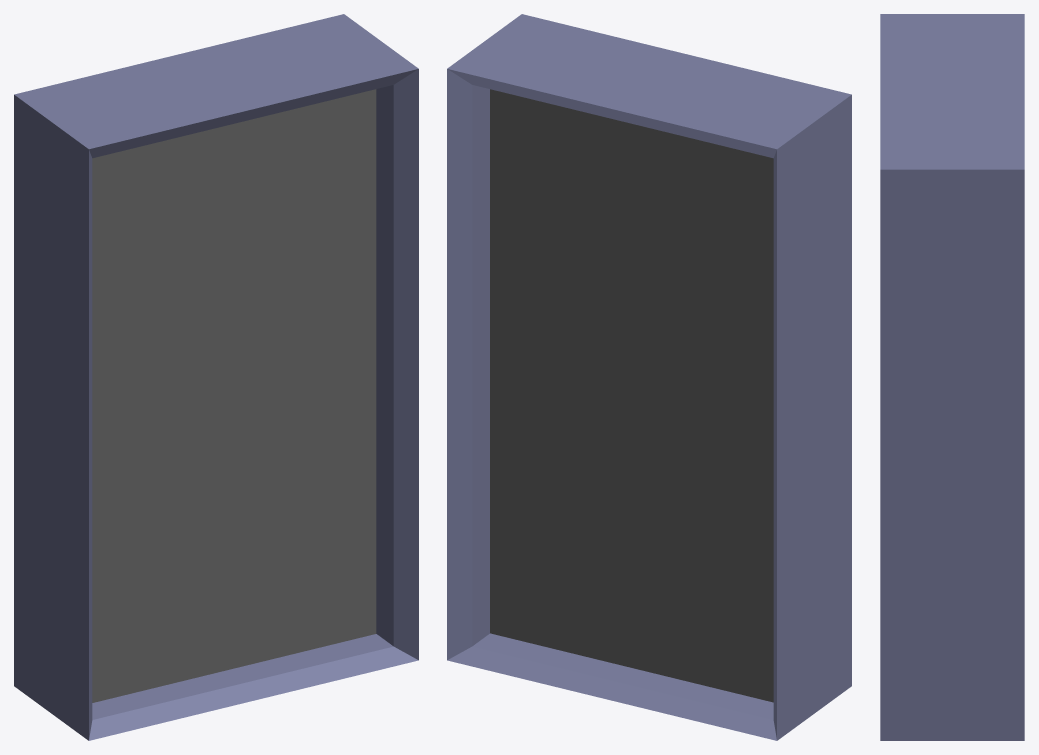
File: smalldoor.fbx
3 renders of one model, left to right at view 1: azimuth 30°, elevation 25°; view 2: azimuth 150°, elevation 25°; view 3: azimuth 270°, elevation 25°, orthographic. The views are drawn at different scales.
Parts seen in each view (by area): view 1: pCube65, pCube66; view 2: pCube65, pCube66; view 3: pCube66.
Part boxes in pixels (<box>): pCube65: <box>92,89,376,702</box>; pCube66: <box>14,14,418,740</box>; pCube65: <box>490,89,773,702</box>; pCube66: <box>447,14,851,740</box>; pCube66: <box>880,14,1024,740</box>.
Size of the model in its own units: 0.4846 by 0.8301 by 0.1904.
